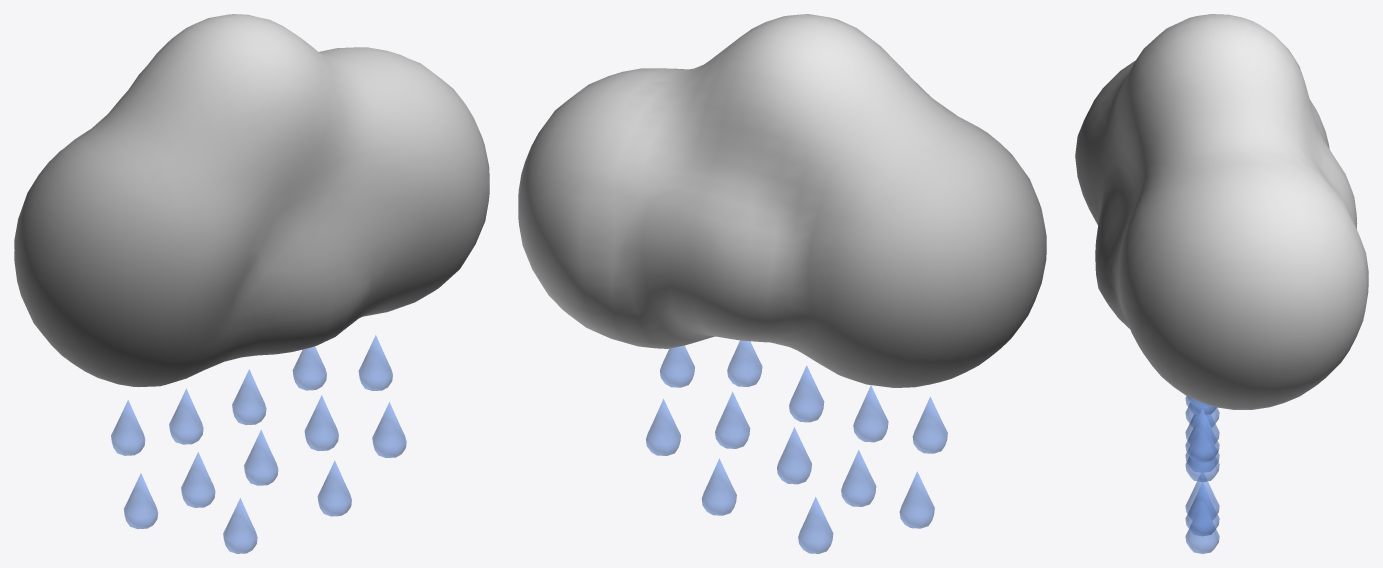
Rendered from 60_HujanRingan.fbx.
3 renders of one model, left to right at view 1: azimuth 30°, elevation 25°; view 2: azimuth 150°, elevation 25°; view 3: azimuth 270°, elevation 25°, orthographic. The views are drawn at different scales.
Visible parts, largest first — view 1: HujanRingan; view 2: HujanRingan; view 3: HujanRingan.
Boxes of the visible parts, left/top/right/bottom form: HujanRingan: left=14, top=14, right=489, bottom=553; HujanRingan: left=518, top=14, right=1046, bottom=553; HujanRingan: left=1075, top=14, right=1368, bottom=553.
Bounding box in the file's own units: 478 × 519 × 275.
